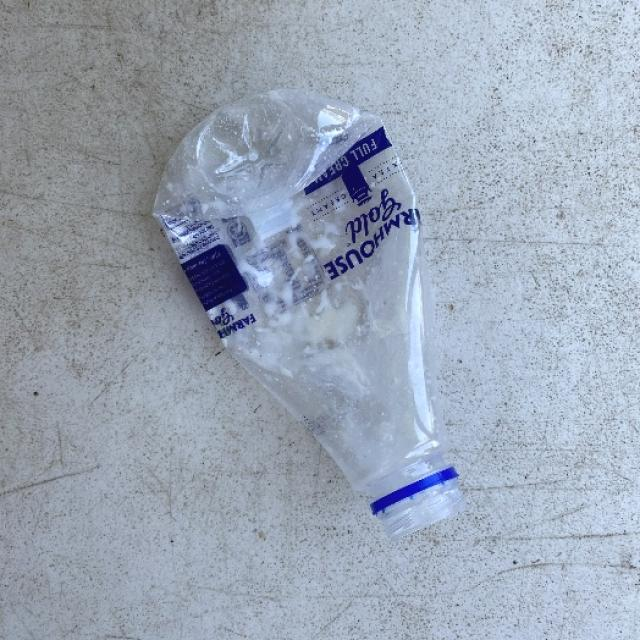inorganic: (154, 83, 470, 538)
